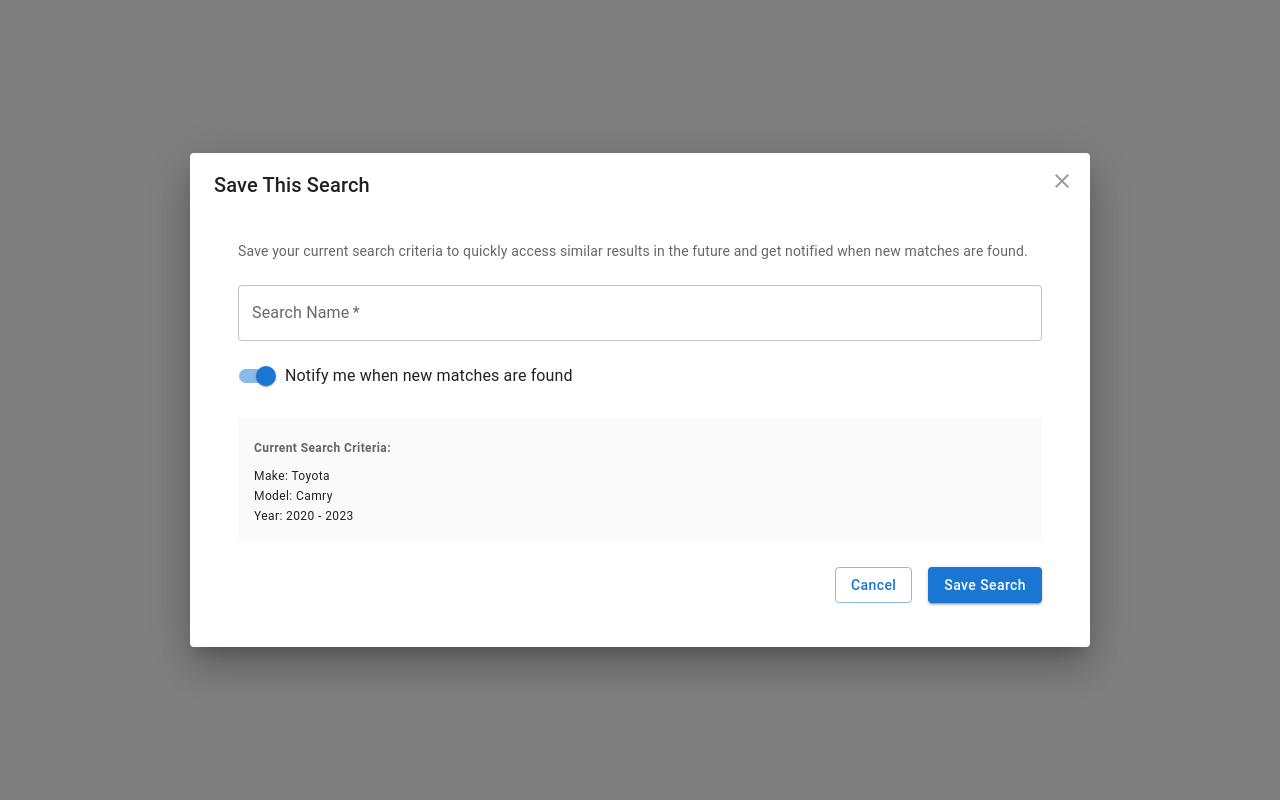
Test: SaveSearchModal › displays error message when save fails
Type "Test Search" into the field labelled "Search Name *" at (640, 313), box [238,285,1042,341]
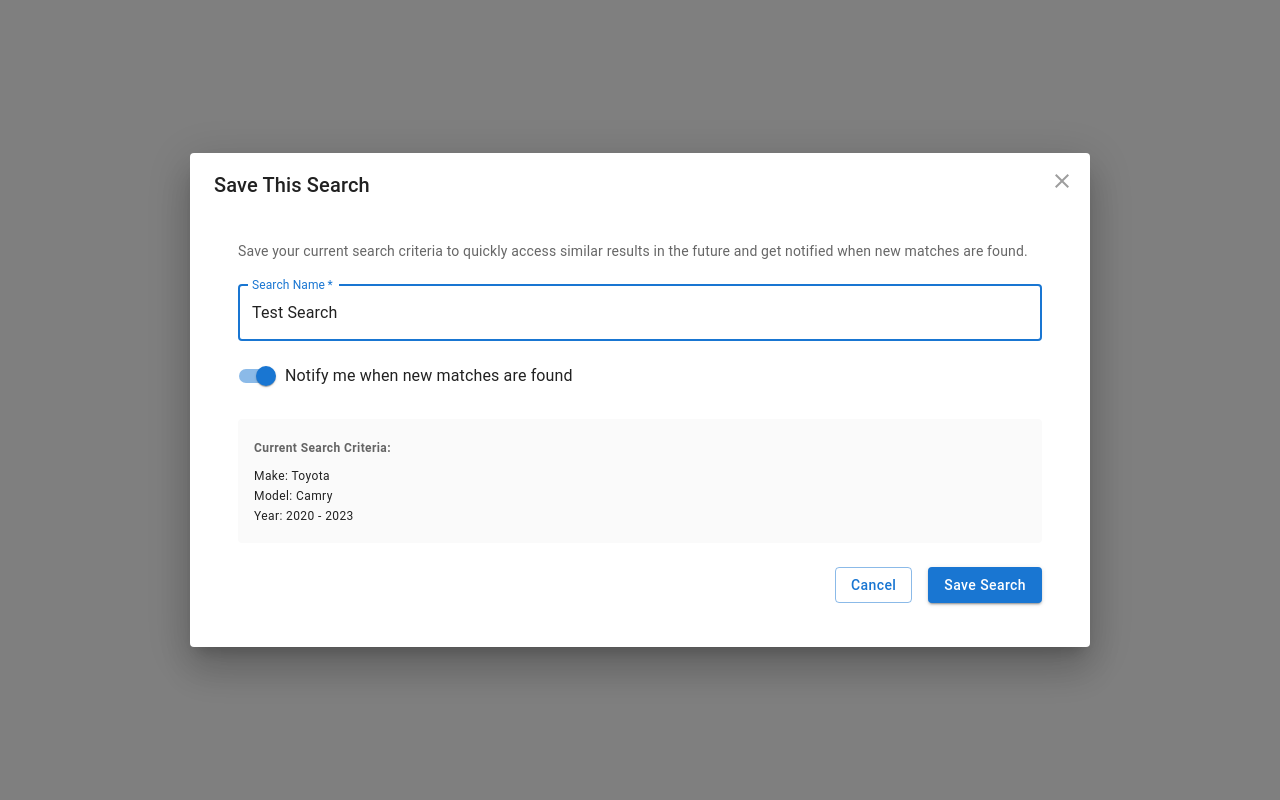
Click the button "Save Search" at (985, 585), box [928,567,1042,603]
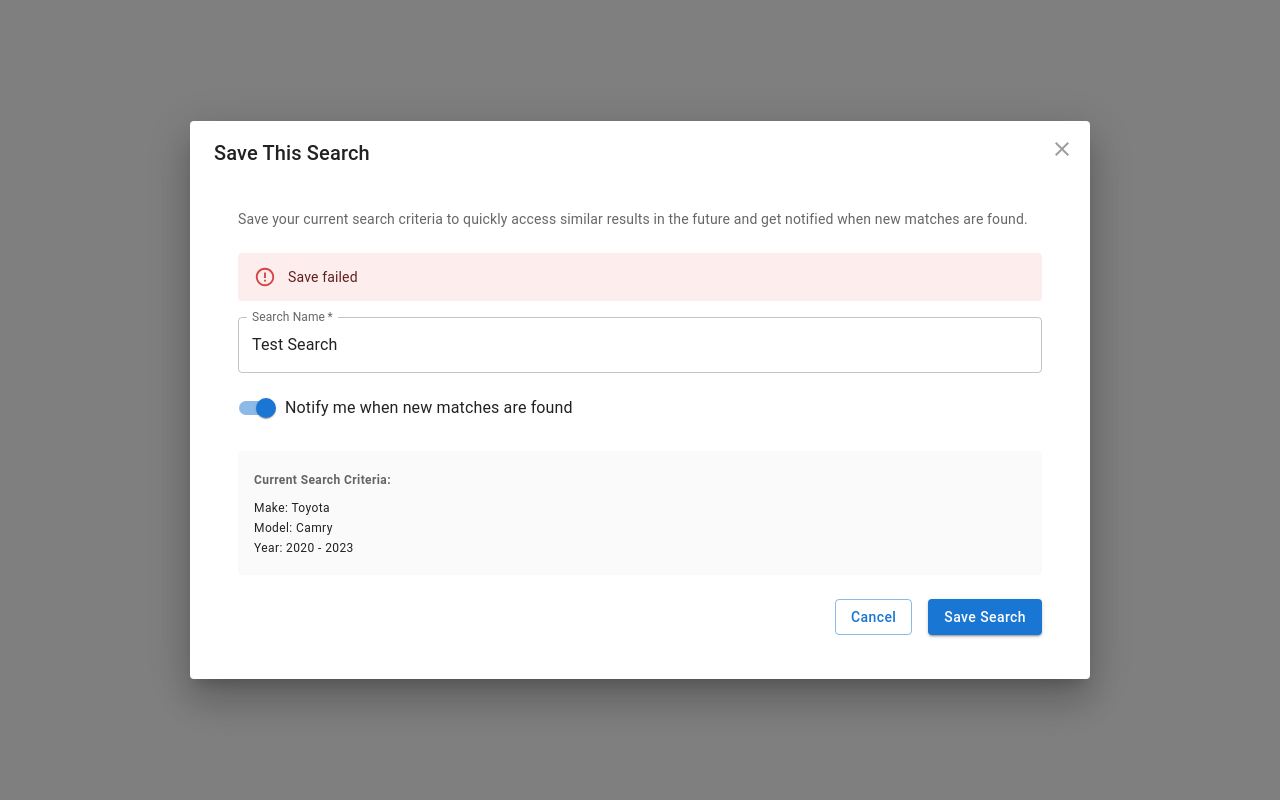
Check: the text "Save failed" is shown, box [288,269,358,285]
